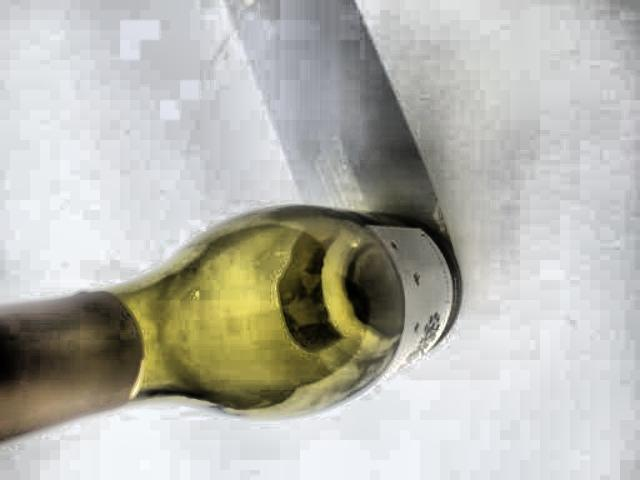Bottles: (0, 212, 477, 480)
